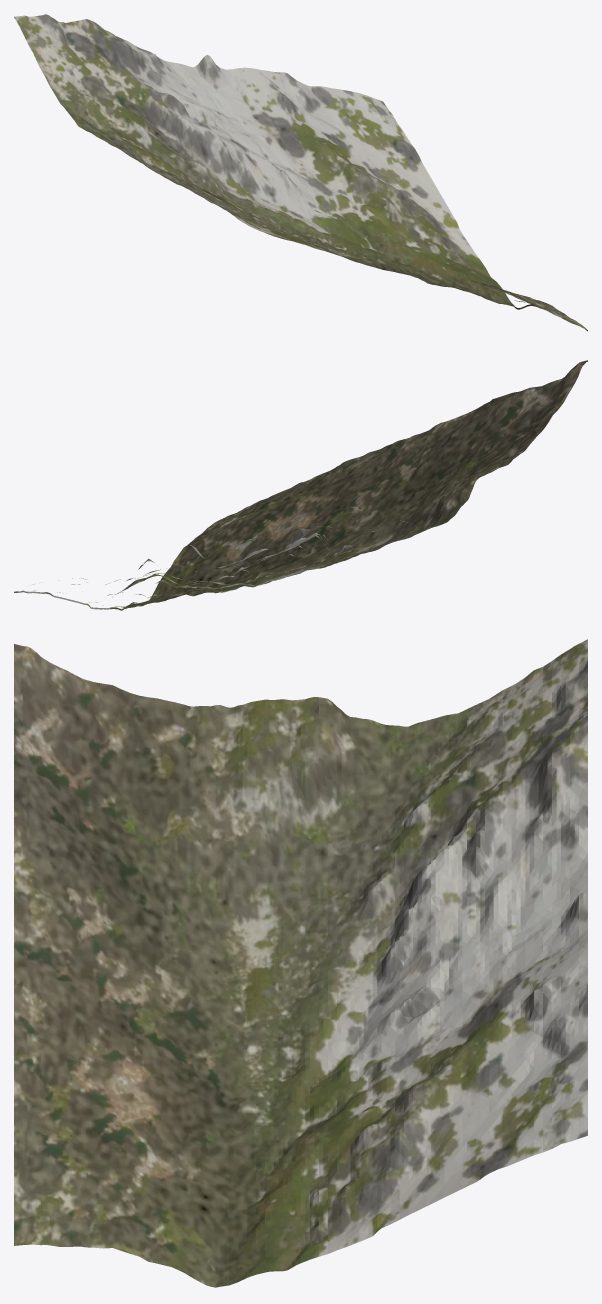
3 views of the same model, one above another, from view 1: azimuth 30°, elevation 25°; view 2: azimuth 150°, elevation 25°; view 3: azimuth 270°, elevation 25° (orthographic). The views are drawn at different scales.
Size of the model in its own units: 250 by 184 by 241.
1 material, 1 textured.
